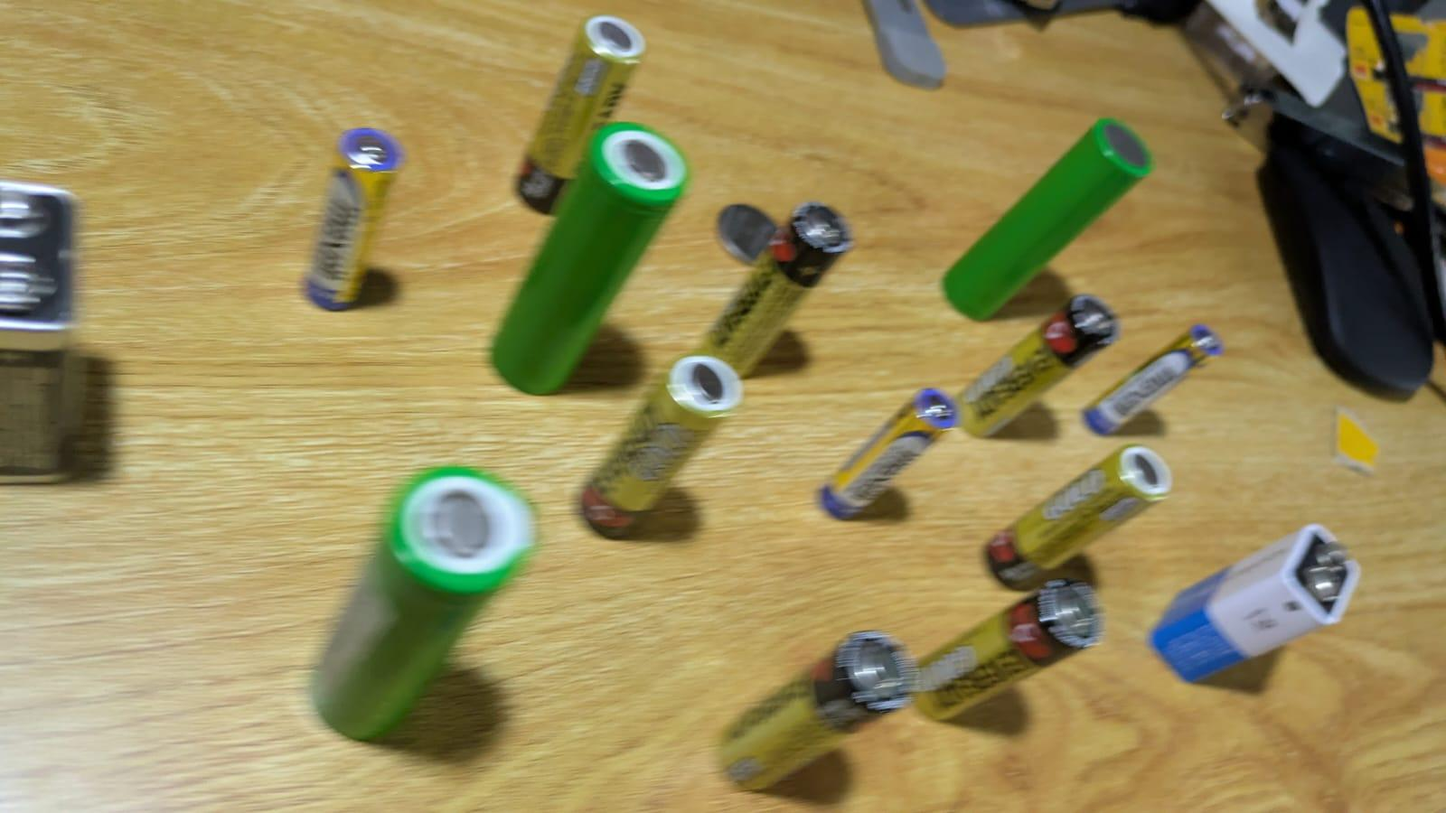9V: (1148, 523, 1357, 686), (0, 180, 89, 480)
AA: (715, 627, 913, 793), (578, 351, 744, 538), (901, 577, 1112, 723), (691, 197, 851, 380), (981, 441, 1170, 593), (513, 11, 651, 218), (957, 295, 1119, 435)
AAA: (296, 119, 415, 319), (819, 379, 965, 525), (1081, 316, 1228, 444)
COIN: (716, 199, 772, 265)
